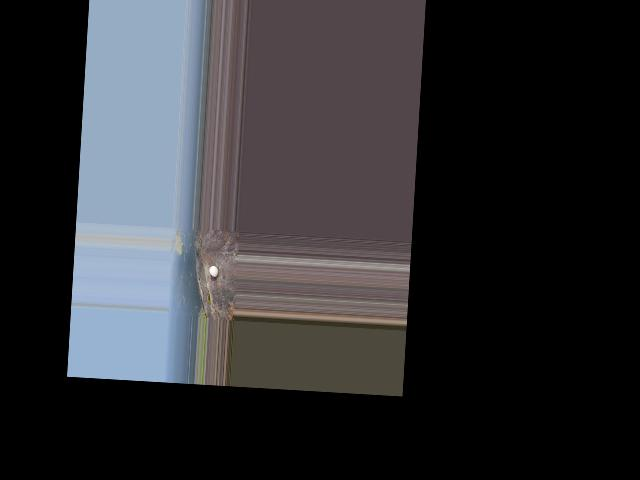egg: (209, 265, 218, 276)
